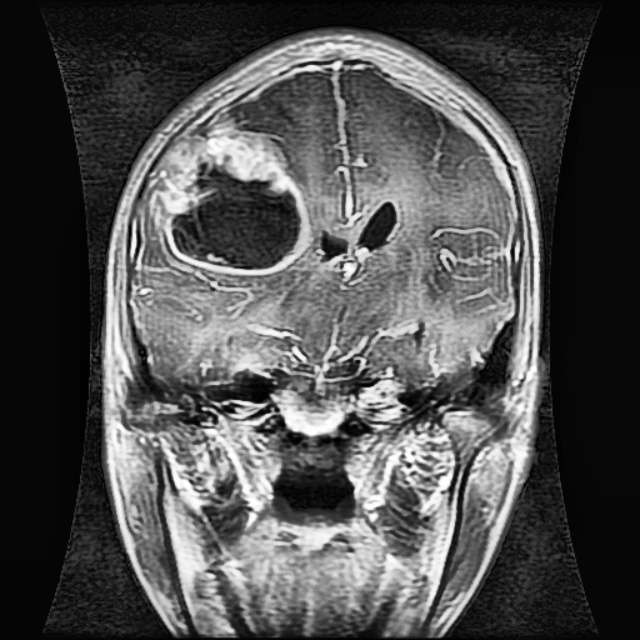Meningioma: (150, 109, 315, 277)
